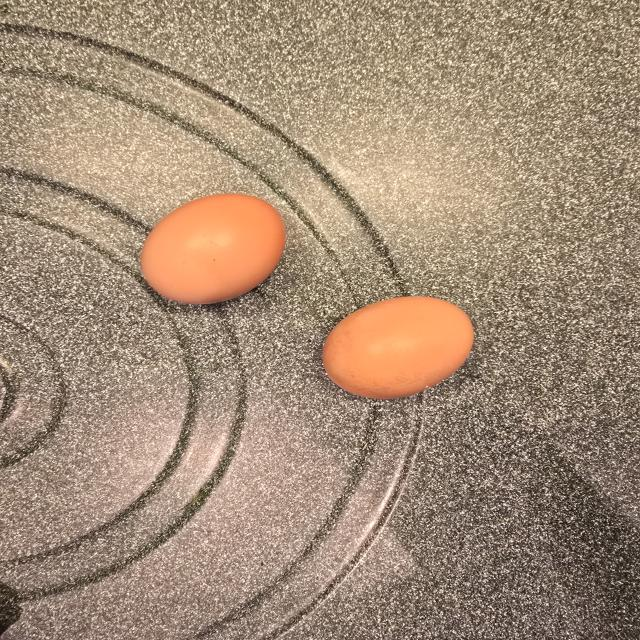Egg: (141, 194, 285, 304), (323, 297, 474, 399)
